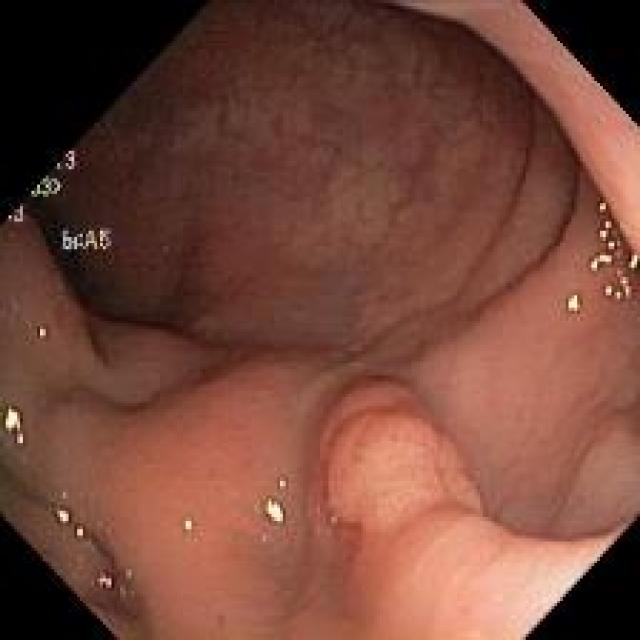Polyps: (328, 412, 482, 531), (319, 377, 432, 464)
